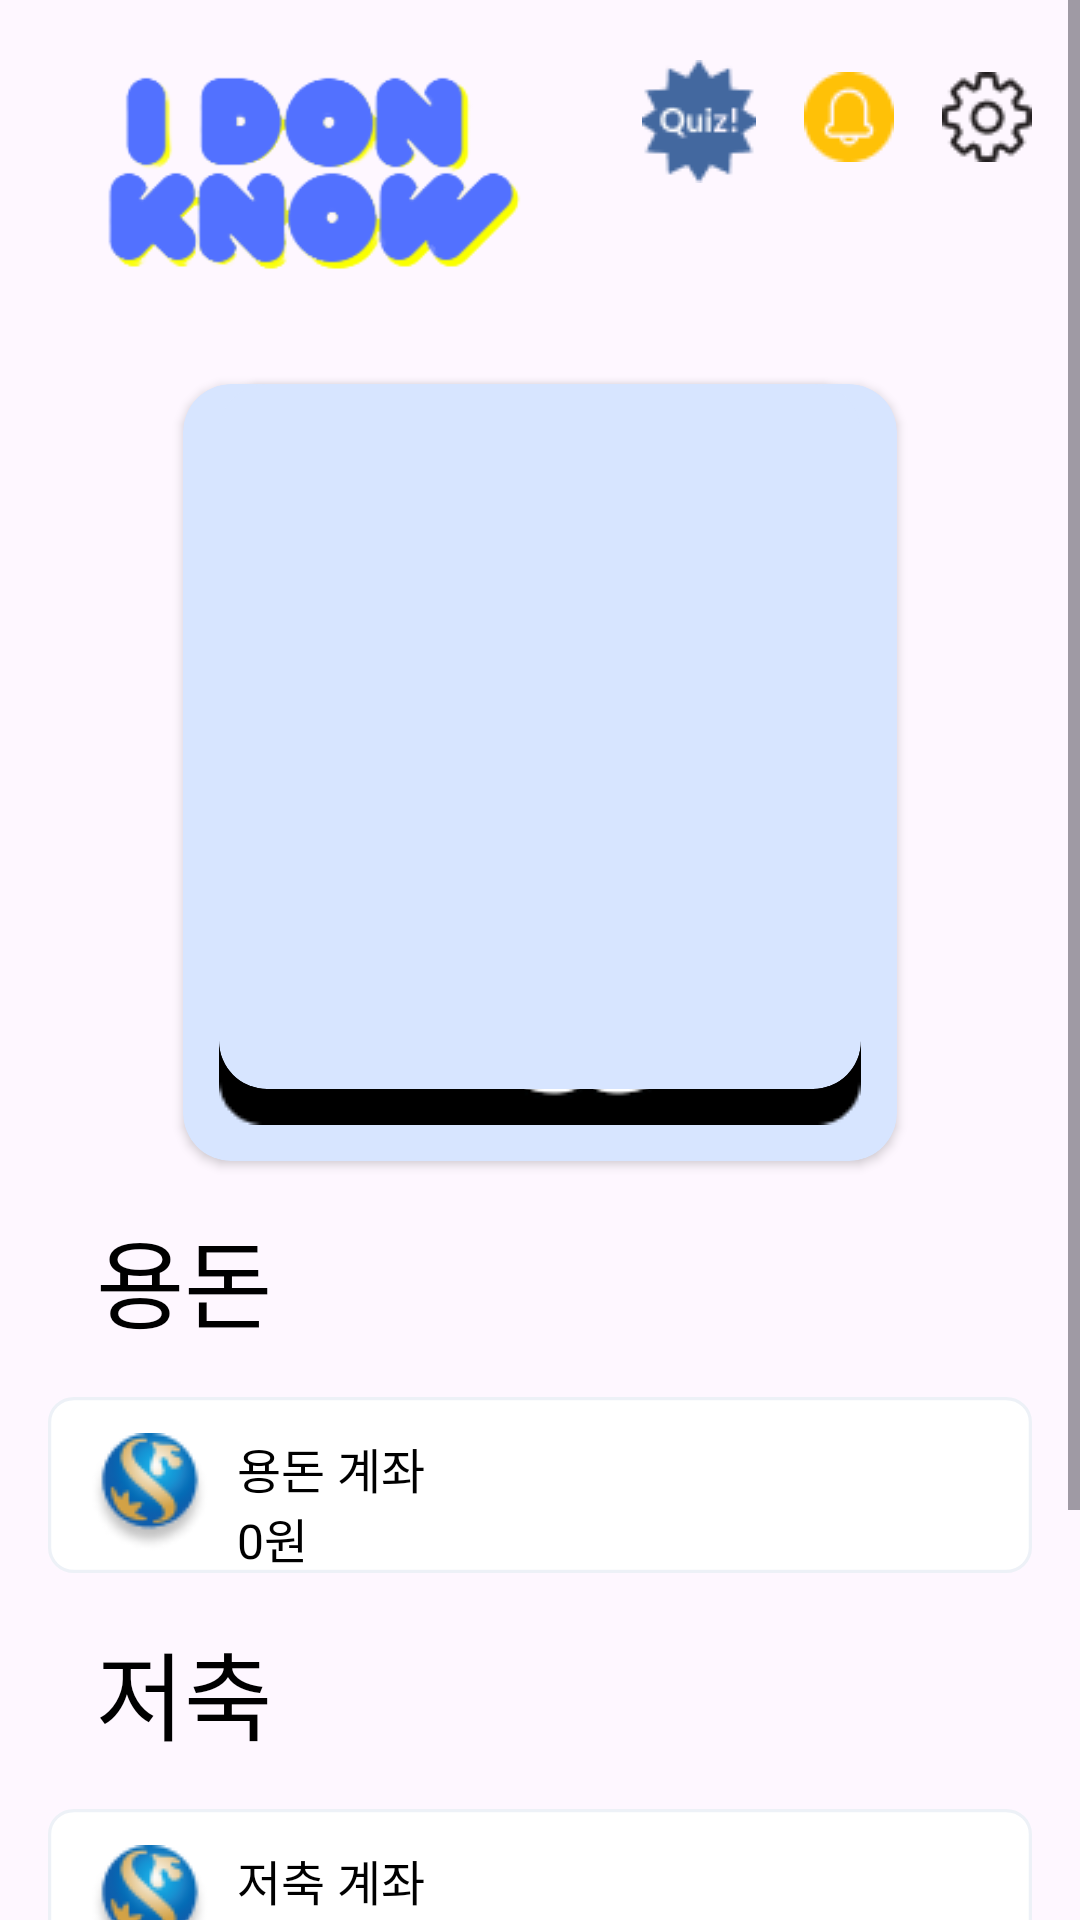

Where to tap for icons on this 1080w x 1920h app screen, as (x,y):
noti: (849,117)
setting: (987,117)
